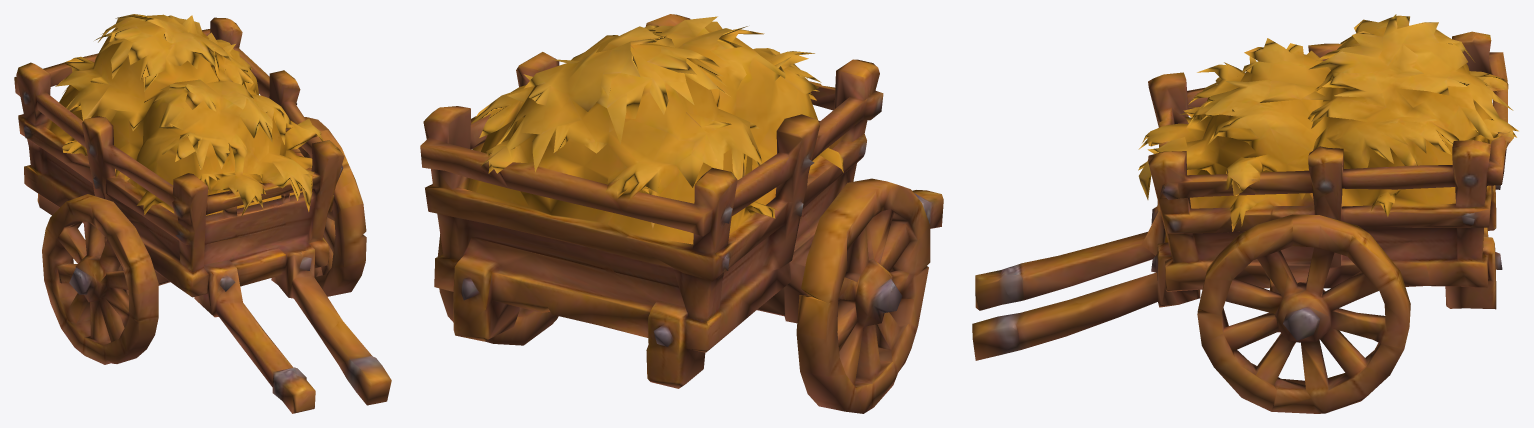
Rendered from cart.glb.
3 renders of one model, left to right at view 1: azimuth 30°, elevation 25°; view 2: azimuth 150°, elevation 25°; view 3: azimuth 270°, elevation 25°, orthographic. The views are drawn at different scales.
Parts seen in each view (by area): view 1: cart; view 2: cart; view 3: cart.
Part boxes in pixels (x1=…): cart: x1=14, y1=14, x2=391, y2=413; cart: x1=420, y1=14, x2=943, y2=413; cart: x1=972, y1=14, x2=1518, y2=413.
Bounding box in the file's own units: 1.92 × 1.8 × 2.8.
Materials: 1 (1 with a texture image).
